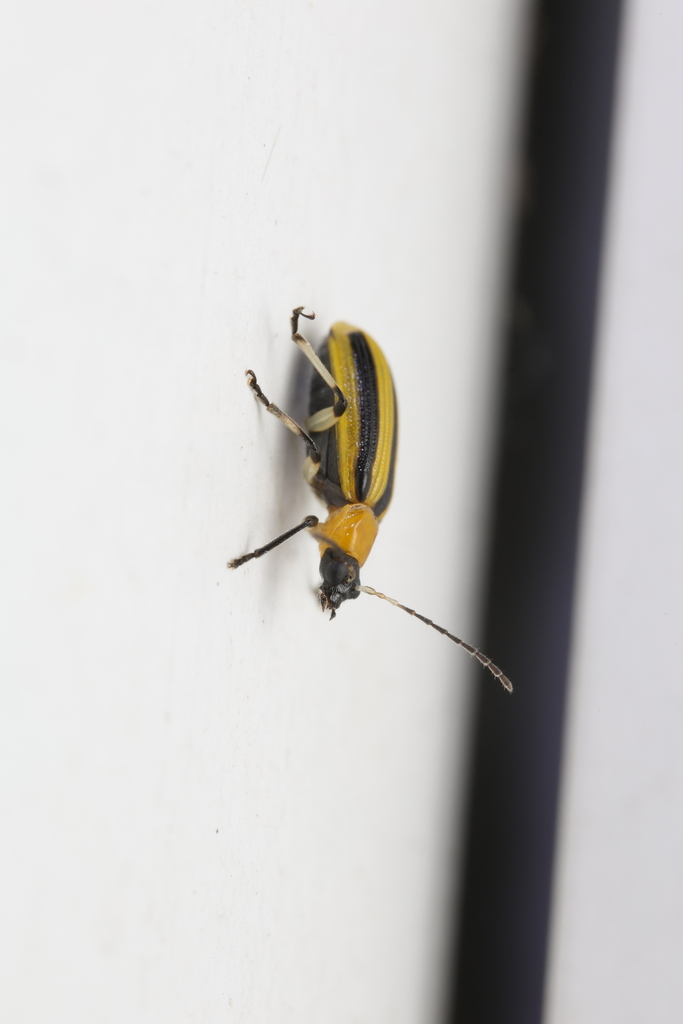potato_beetle: (163, 251, 562, 765)
